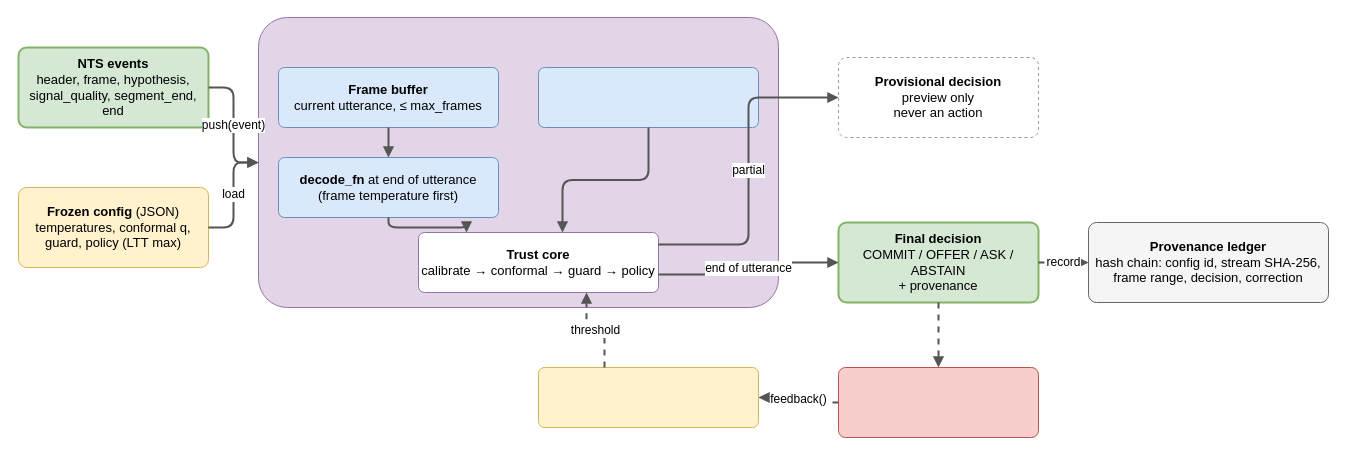
Image size: 1346x455. Some labels were removed from this diagram. The box of each missing label's shape, as (x1, y1, x2, y2) in pixels:
Latest hypothesis partial or final n-best: (538, 66, 758, 128)
Online re-calibration OnlineCommitRiskControl (floor = frozen commit_p): (538, 366, 758, 428)
StreamingTrustLayer — state per session: (258, 16, 778, 308)
User feedback final text or none: (838, 366, 1038, 438)
